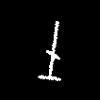double_crochet: (39, 21, 60, 80)
